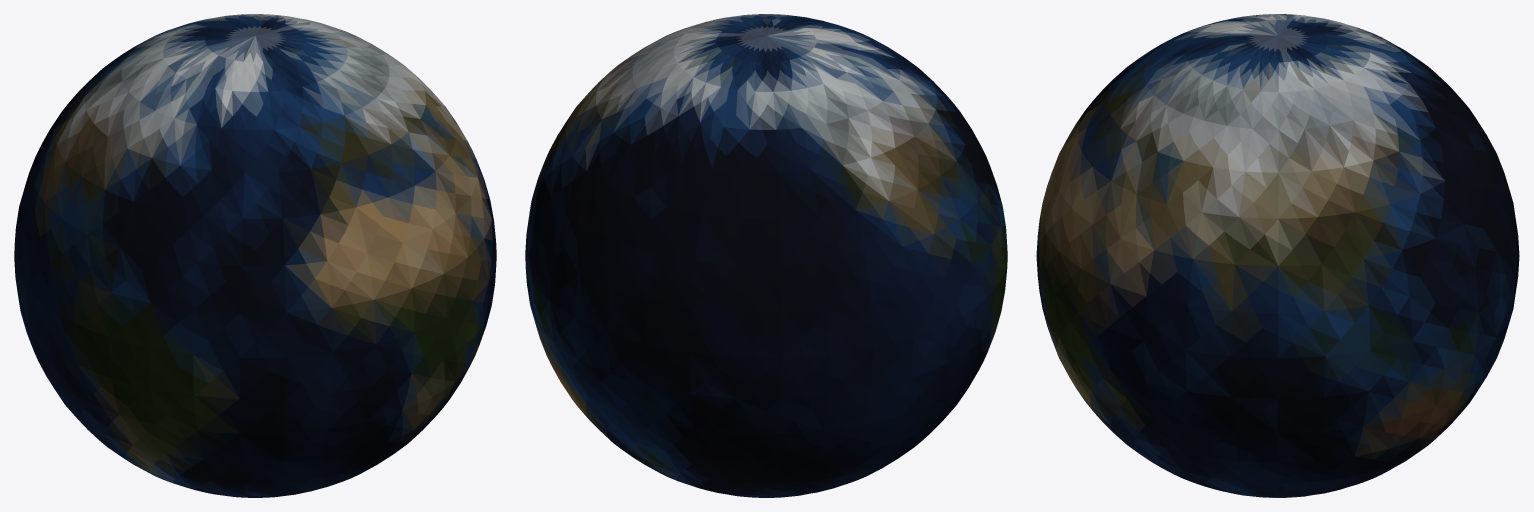
File: earth.fbx
The picture shows the model from 3 angles, left to right: view 1: azimuth 30°, elevation 25°; view 2: azimuth 150°, elevation 25°; view 3: azimuth 270°, elevation 25°; orthographic projection.
Parts seen in each view (by area): view 1: Earth; view 2: Earth; view 3: Earth.
Part boxes in pixels (x1,y1,x2,y2): Earth: (14,14,496,497); Earth: (525,14,1007,497); Earth: (1036,14,1519,497).
Size of the model in its own units: 10.6 by 10.67 by 10.6.
